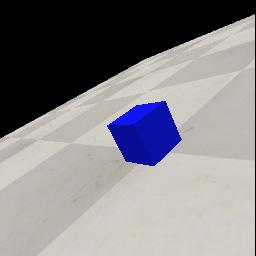box: (107, 100, 182, 166)
